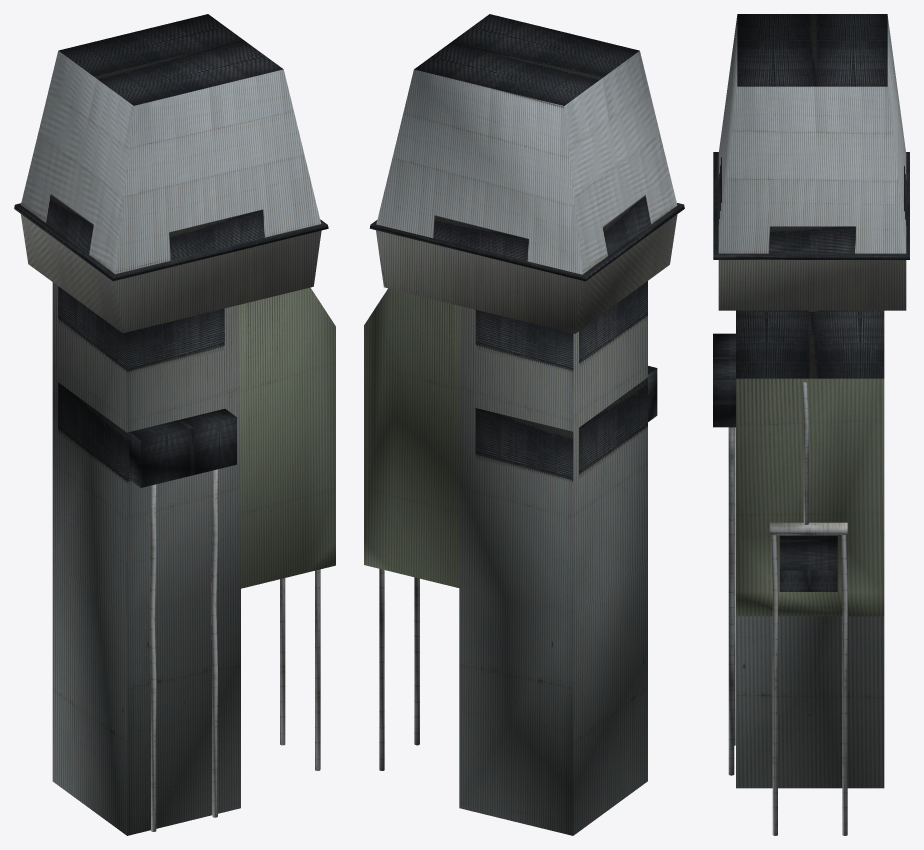
File: industrial1.obj
3 views of the same model, side by side, from view 1: azimuth 30°, elevation 25°; view 2: azimuth 150°, elevation 25°; view 3: azimuth 270°, elevation 25° (orthographic).
Visible parts, largest first — view 1: industrial1; view 2: industrial1; view 3: industrial1.
Part boxes in pixels (x1=…): industrial1: x1=14, y1=14, x2=335, y2=835; industrial1: x1=364, y1=14, x2=684, y2=835; industrial1: x1=713, y1=14, x2=909, y2=835.
Size of the model in its own units: 327 by 940 by 232.
Materials: 1 (1 with a texture image).
